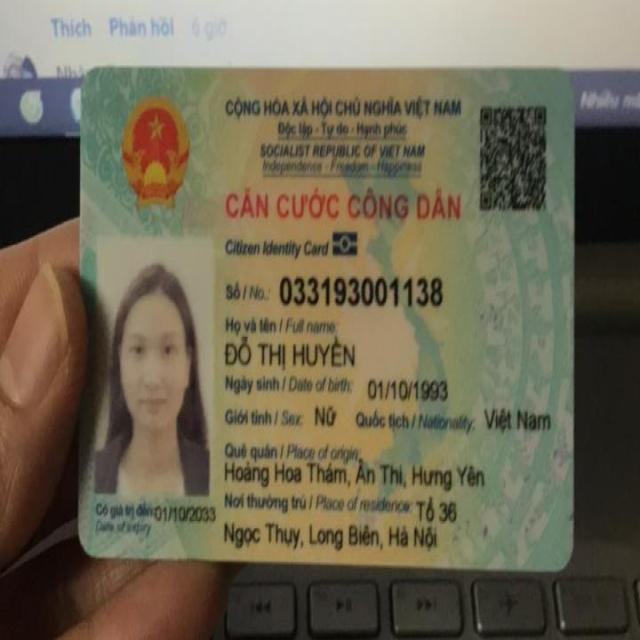bottom_left: (64, 522, 118, 568)
bottom_right: (530, 537, 578, 587)
image_person: (93, 233, 213, 503)
top_left: (69, 53, 118, 112)
top_right: (532, 52, 588, 104)
